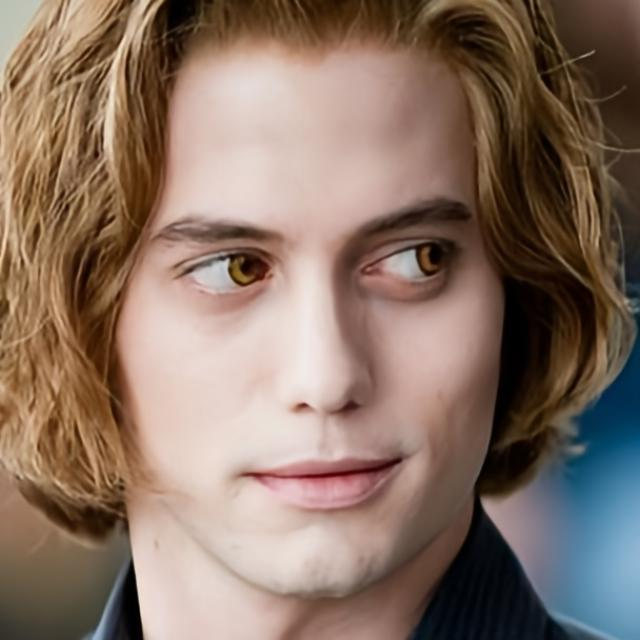content: (110, 39, 508, 597)
